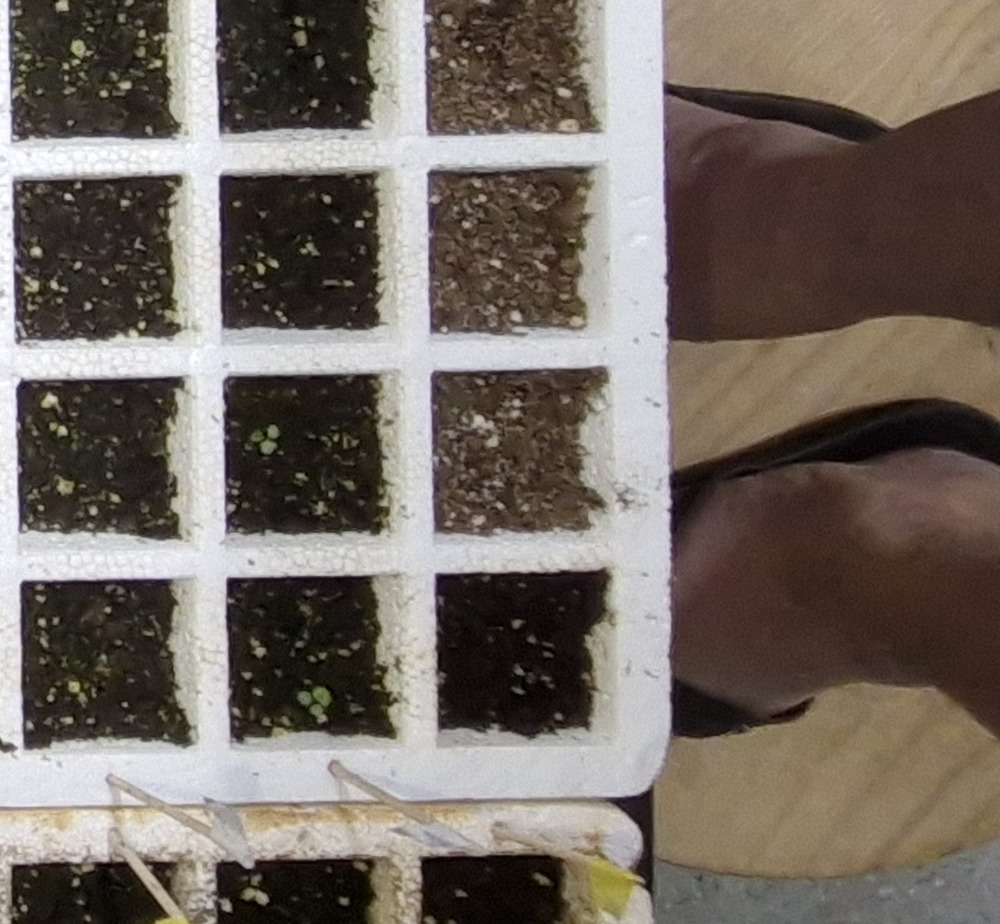Folha: (314, 686, 331, 707), (299, 691, 313, 705), (310, 704, 324, 718), (261, 441, 277, 453), (250, 429, 264, 441), (267, 426, 281, 438)
Germinacao: (296, 686, 332, 716), (252, 423, 280, 454)
